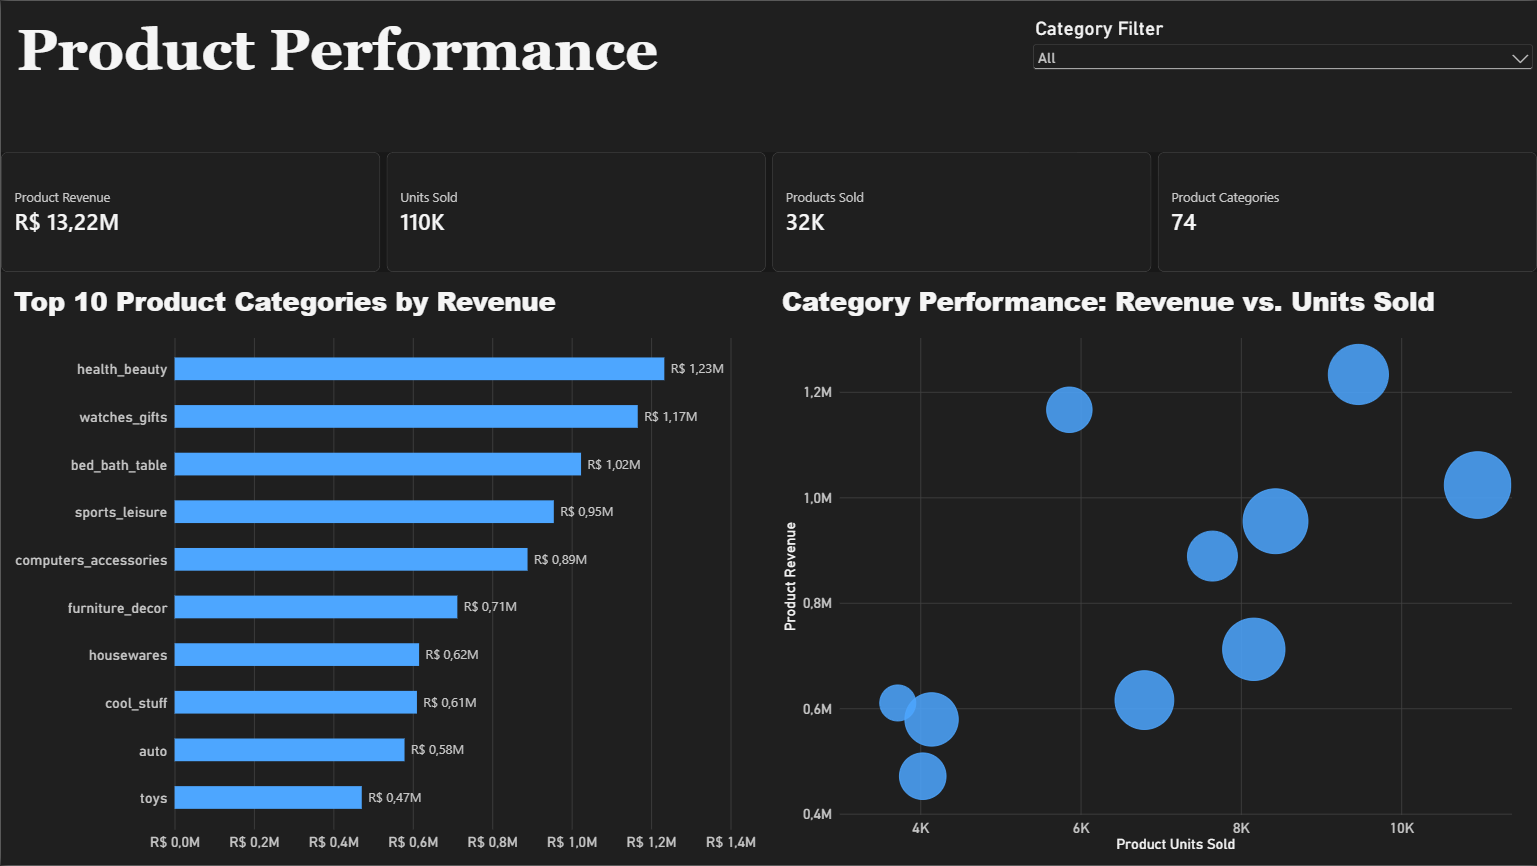

What the dashboard file says about the page in this screenshot:
{"tool":"powerbi","page":{"name":"Product Performance","canvas":[1920,1080],"ordinal":1},"visuals":[{"type":"cardVisual","title":"pppp","fields":{"Data":["Sum(MART_PRODUCTS.PRODUCT_REVENUE)","Sum(MART_PRODUCTS.UNITS_SOLD)","MART_PRODUCTS.Products Sold","MART_PRODUCTS.Product Categories"]},"box":[0,188.8,1920,150],"z":0},{"type":"clusteredBarChart","title":"Top 10 Product Categories by Revenue","fields":{"Category":["MART_PRODUCTS.CATEGORY_NAME"],"Y":["Sum(MART_PRODUCTS.PRODUCT_REVENUE)"]},"box":[0,338.8,960,741.2],"z":1000},{"type":"scatterChart","title":"Category Performance: Revenue vs. Units Sold","fields":{"Category":["MART_PRODUCTS.CATEGORY_NAME"],"Size":["MART_PRODUCTS.Products Sold"],"X":["MART_PRODUCTS.Product Units Sold"],"Y":["MART_PRODUCTS.Product Revenue"]},"box":[960,338.8,960,741.2],"z":2000},{"type":"textbox","box":[0,0,1345,188.8],"z":3000},{"type":"slicer","fields":{"Values":["MART_PRODUCTS.CATEGORY_NAME"]},"box":[1285,0,635,188.8],"z":4000}]}

Visuals, with their boxes in screenshot pixels (x1, y1, x2, y2), scaled from the page's 1920x1080 canvas onto the 1537x866 screenshot:
"pppp" cardVisual: select_region(0, 151, 1536, 272)
"Top 10 Product Categories by Revenue" clusteredBarChart: select_region(0, 272, 768, 865)
"Category Performance: Revenue vs. Units Sold" scatterChart: select_region(768, 272, 1536, 865)
textbox: select_region(0, 0, 1077, 151)
slicer - MART_PRODUCTS.CATEGORY_NAME: select_region(1029, 0, 1536, 151)
